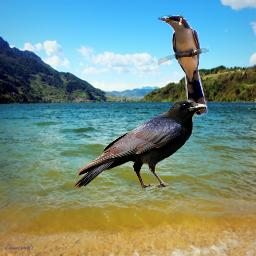Crow: (73, 98, 207, 189)
Cuckoo: (158, 15, 209, 117)
